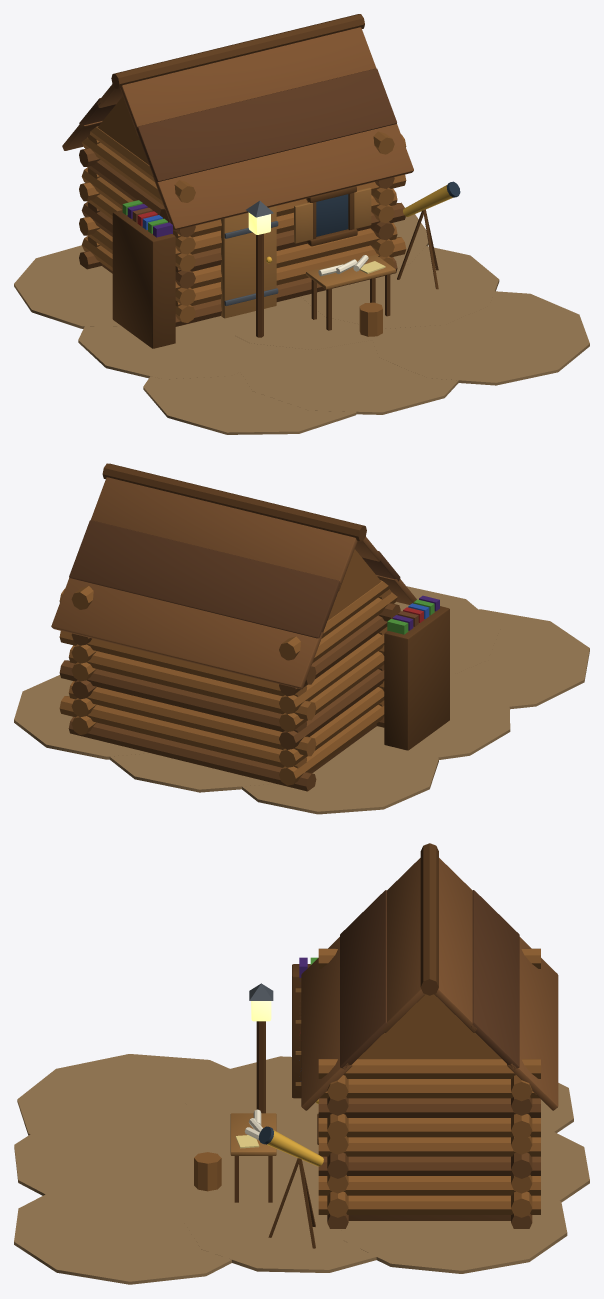
Rendered from akademia_poz03.glb.
The picture shows the model from 3 angles, top to bottom: view 1: azimuth 30°, elevation 25°; view 2: azimuth 150°, elevation 25°; view 3: azimuth 270°, elevation 25°; orthographic projection. The views are drawn at different scales.
Visible parts, largest first — view 1: akademia_poz03; view 2: akademia_poz03; view 3: akademia_poz03.
Part boxes in pixels (x1,y1,x2,y2): akademia_poz03: (14, 14, 589, 434); akademia_poz03: (14, 463, 589, 814); akademia_poz03: (14, 843, 589, 1284).
Size of the model in its own units: 7.05 by 3.74 by 7.52.
